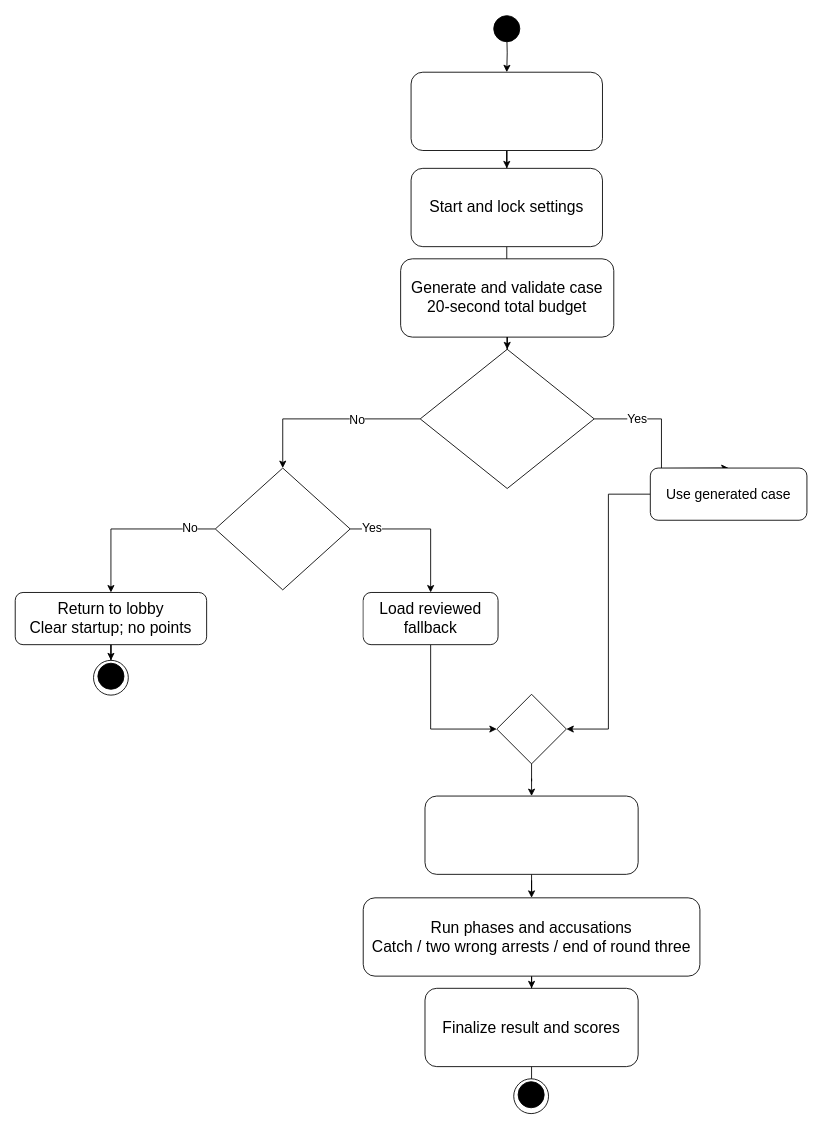
Image size: 822x1128. Some labels were removed from this diagram. The centre of each missing label's shape, as x and y in pixels:
Eligible fallback available?: pixel 282 528
Ready lobby: pixel 506 111
Save case and assign roles Start round one: pixel 531 834
Valid AI case within budget?: pixel 506 418
